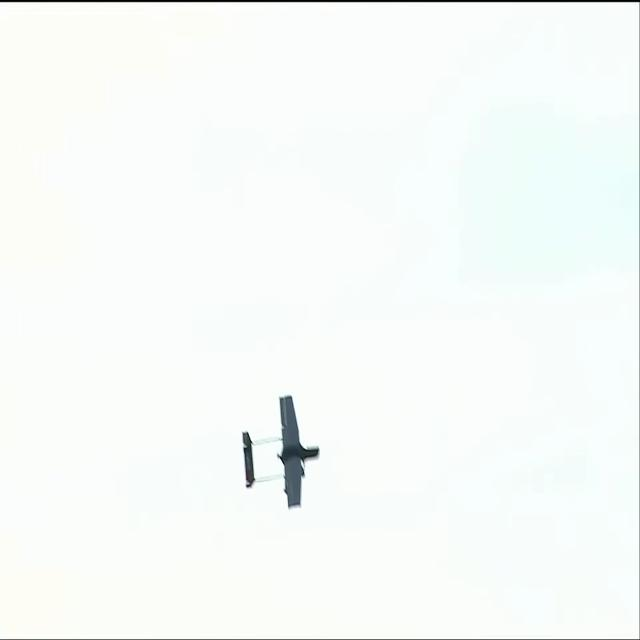iha: (275, 425, 288, 481)
